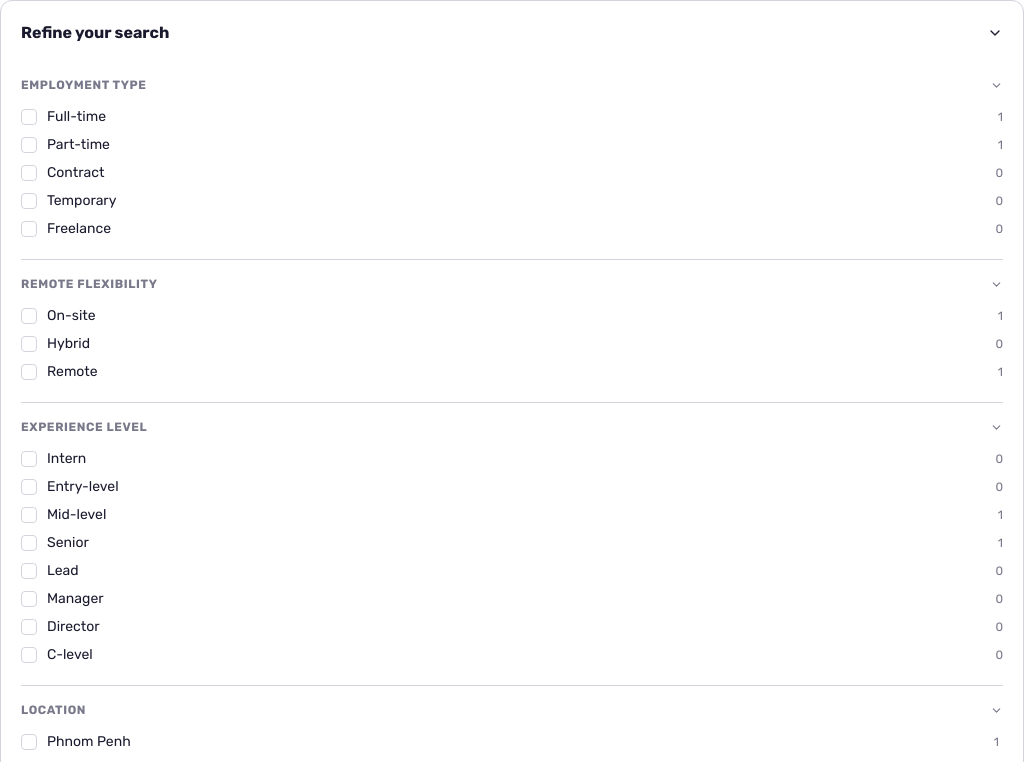
it: JobFilters collapsible panel › does not toggle the panel when Clear all is pressed
The width and height of the screenshot is (1024, 762).
Click the text "Full-time": (76, 117) top-left (47, 107), bottom-right (106, 127)
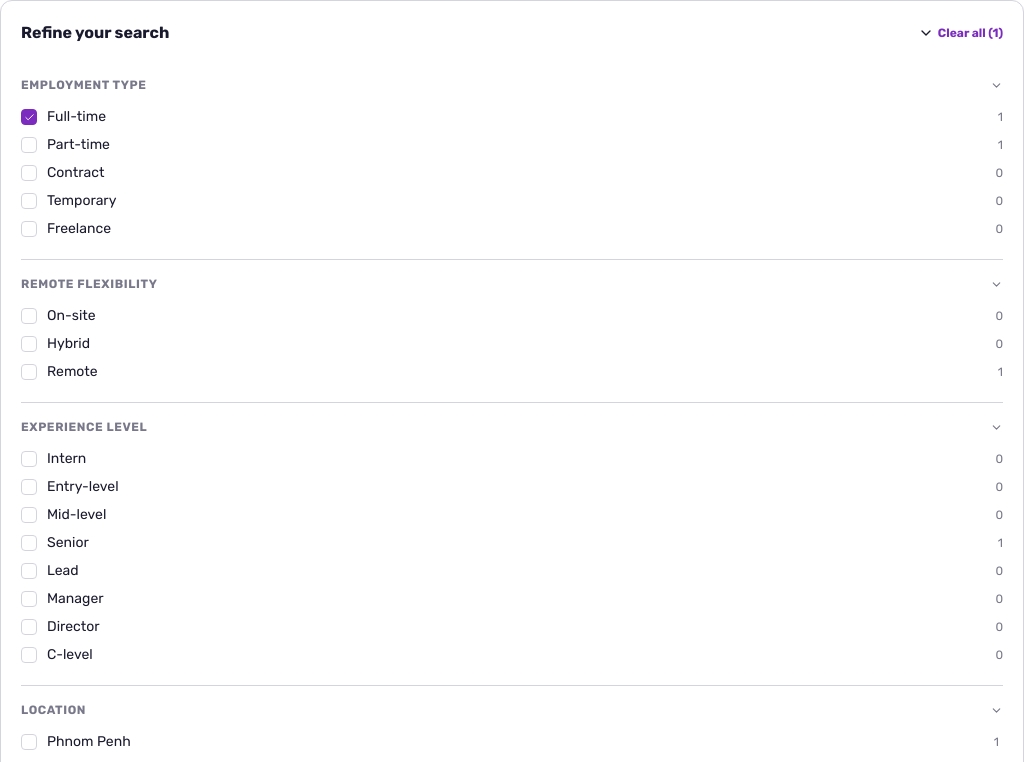
Click the button "Clear all (1)": (970, 33) top-left (938, 25), bottom-right (1003, 41)
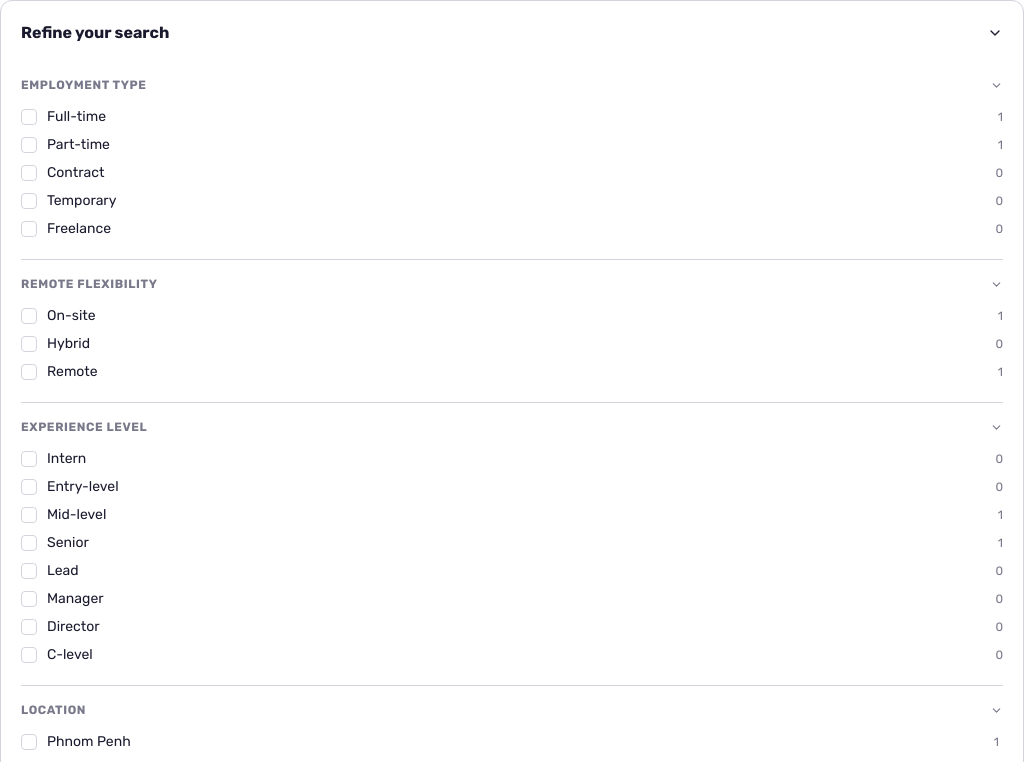
Result: the button "Clear all" is gone
